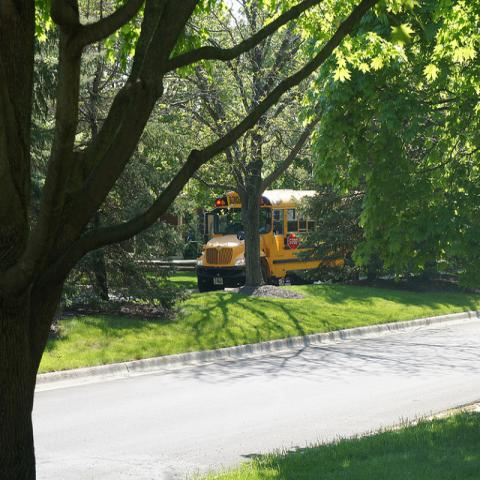bus: (196, 189, 324, 292)
